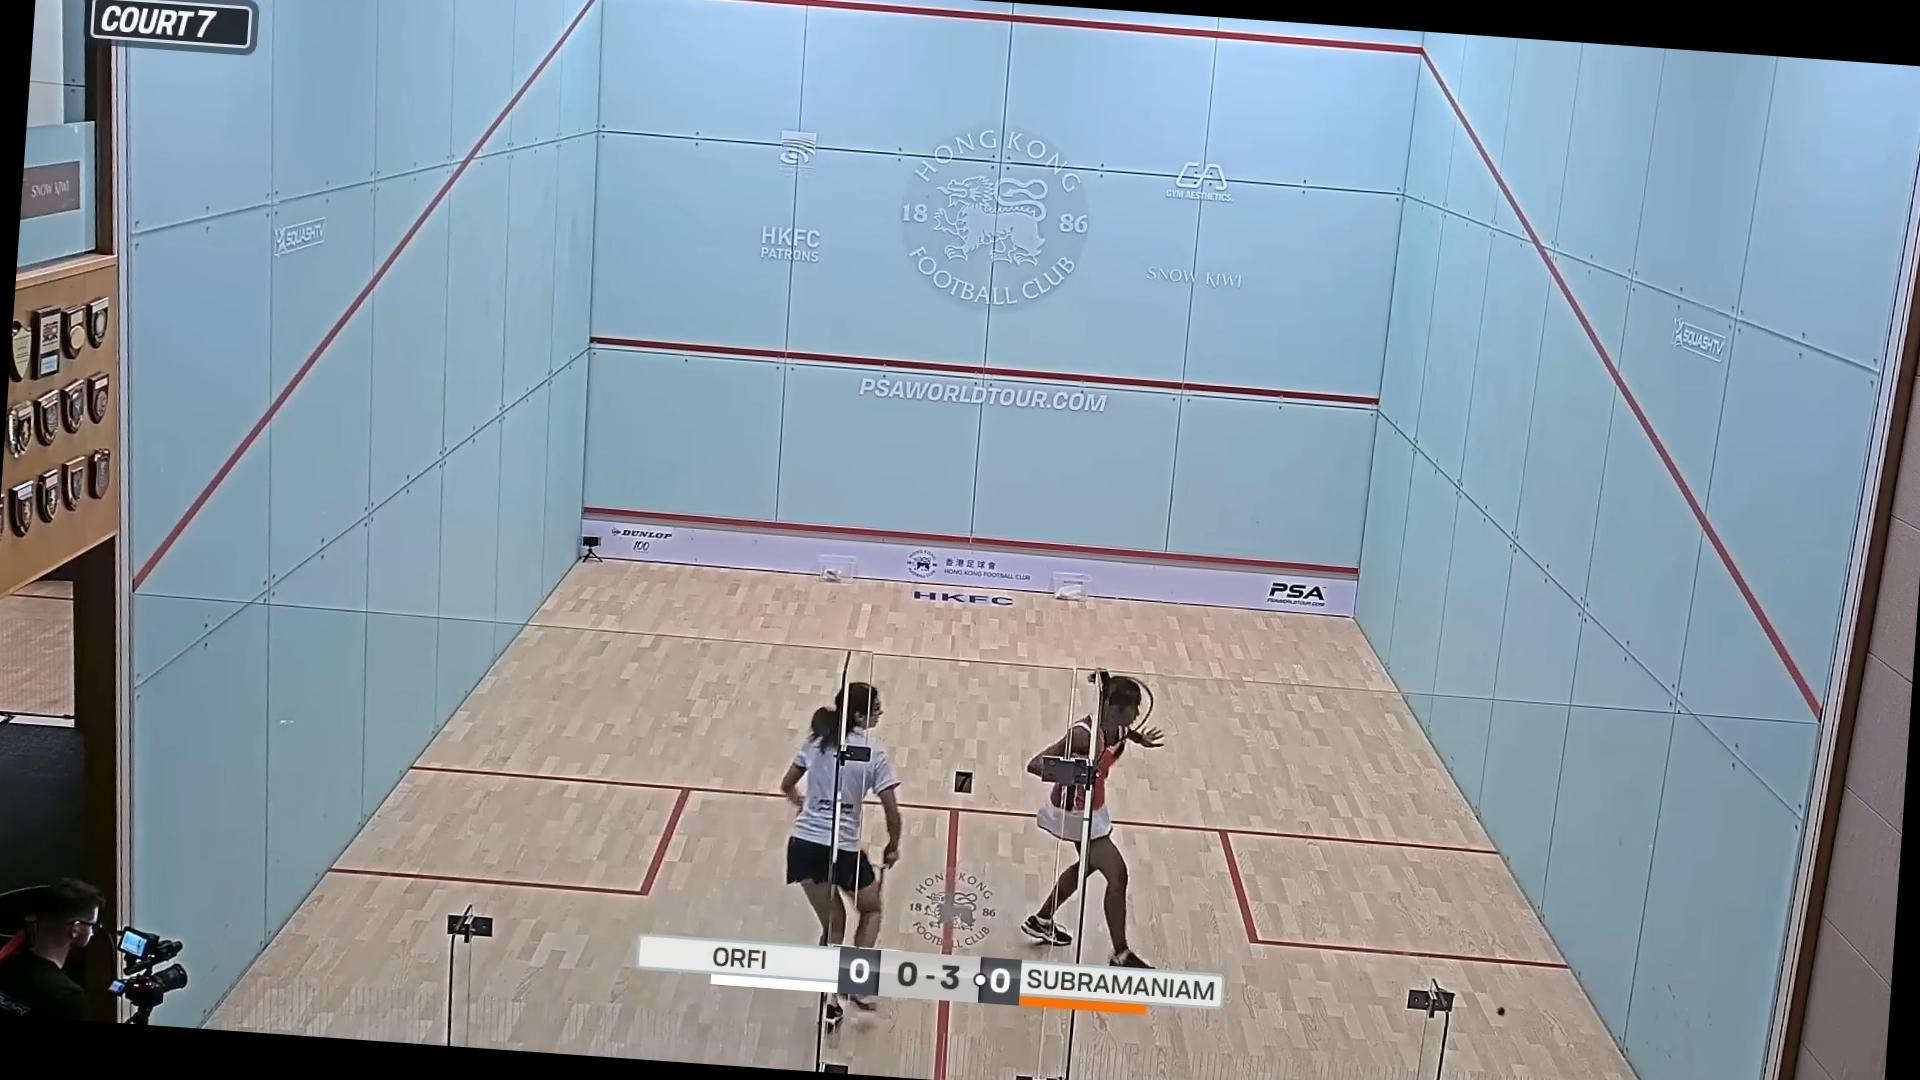Squash-Ball: (1486, 996, 1513, 1025)
